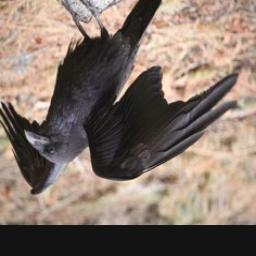Crow: (0, 0, 242, 198)
